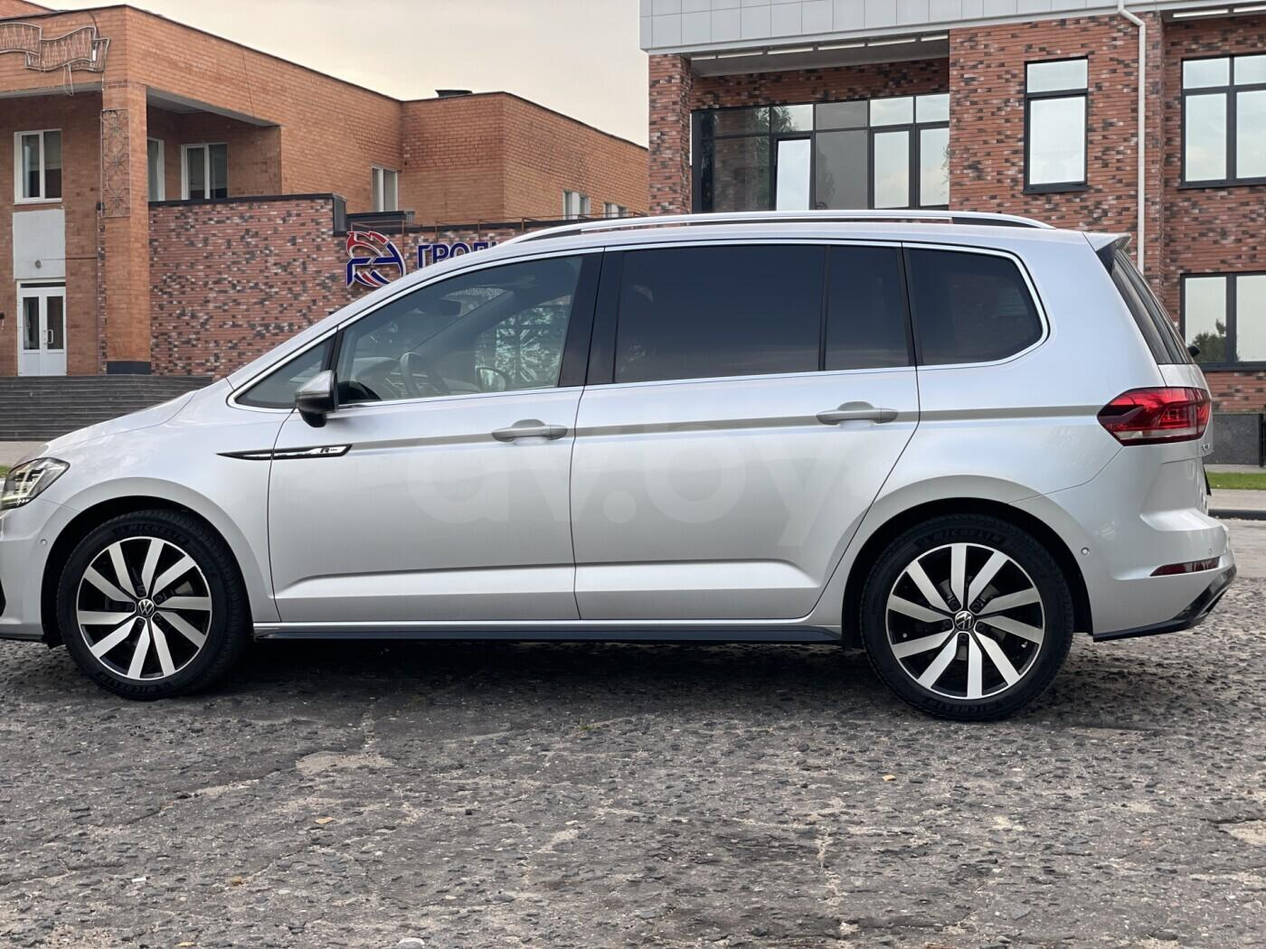Touran_2015: (0, 207, 1239, 714)
